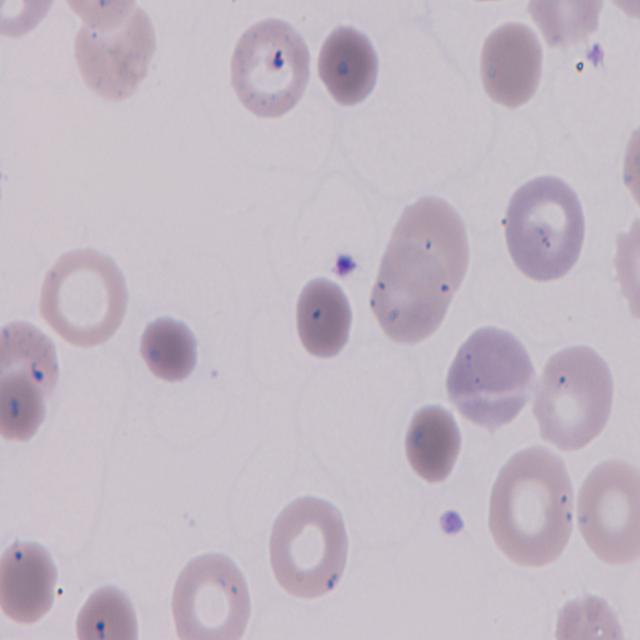Platelets: (332, 246, 358, 283)
RBC: (370, 192, 474, 348), (487, 442, 577, 570), (442, 326, 542, 437), (39, 240, 138, 351), (228, 12, 318, 130), (264, 490, 354, 604), (69, 0, 159, 103), (532, 340, 614, 452), (168, 549, 258, 640), (570, 451, 638, 565), (0, 321, 62, 444), (0, 534, 66, 630), (68, 582, 152, 637), (544, 591, 627, 639), (0, 0, 62, 45)
Spherocyte: (473, 18, 546, 113), (316, 22, 386, 110), (292, 272, 358, 362), (403, 402, 465, 486), (140, 315, 198, 383)
